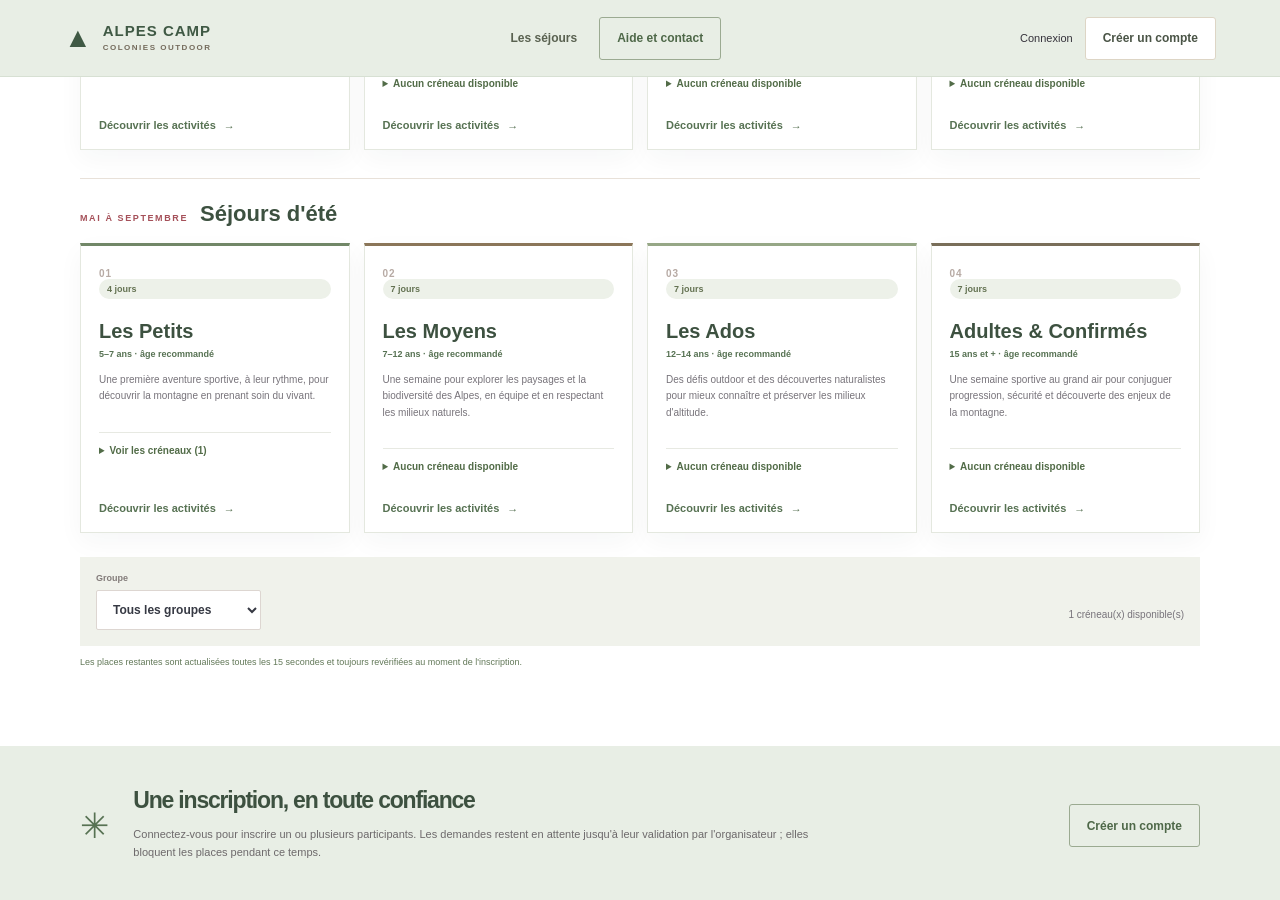
application Alpes Camp › présente les quatre groupes d'âge et les départs configurés
(page scrolled)
Expected: the heading "Séjours d'été" is shown, [200, 200, 337, 229]
Step 1. Click the heading "Voir les créneaux (1)" → x=158, y=450, box [110, 445, 207, 456]
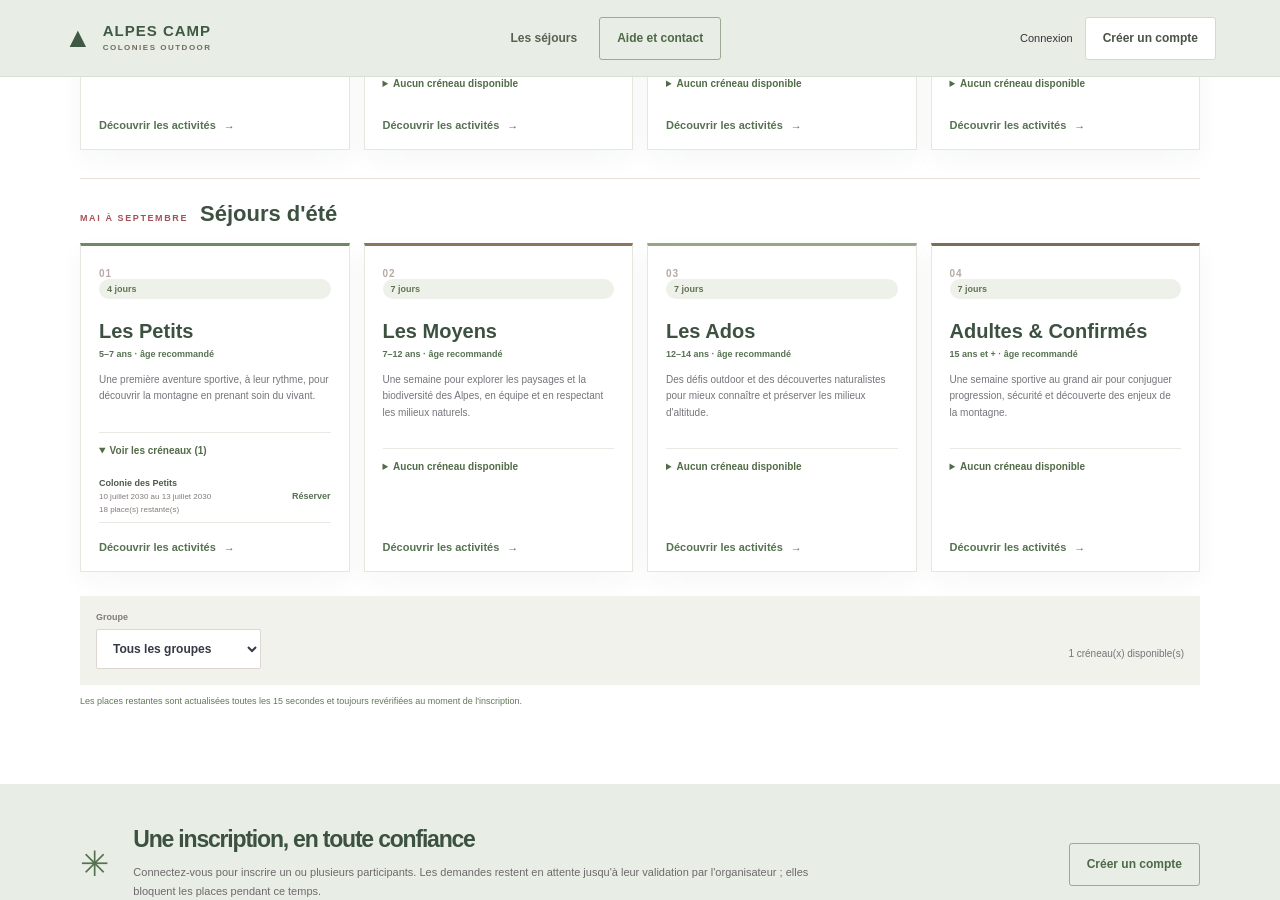
Result: the text "18 place(s) restante(s)" is shown at [99, 505, 179, 514]
